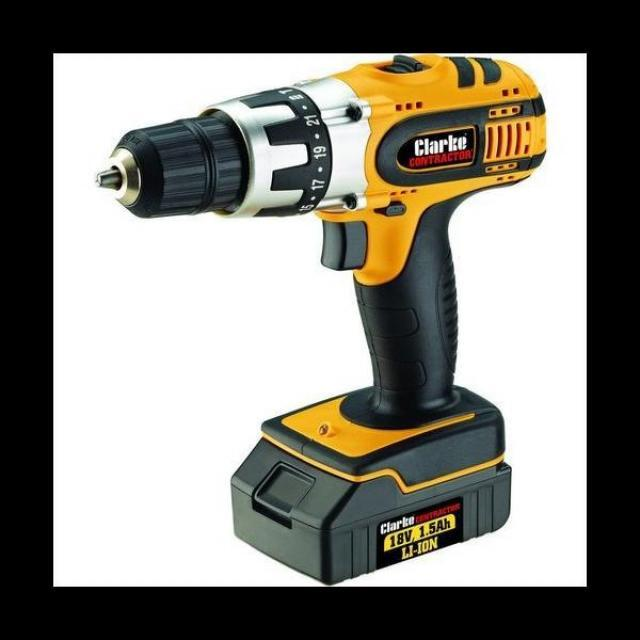drill: (92, 53, 549, 588)
